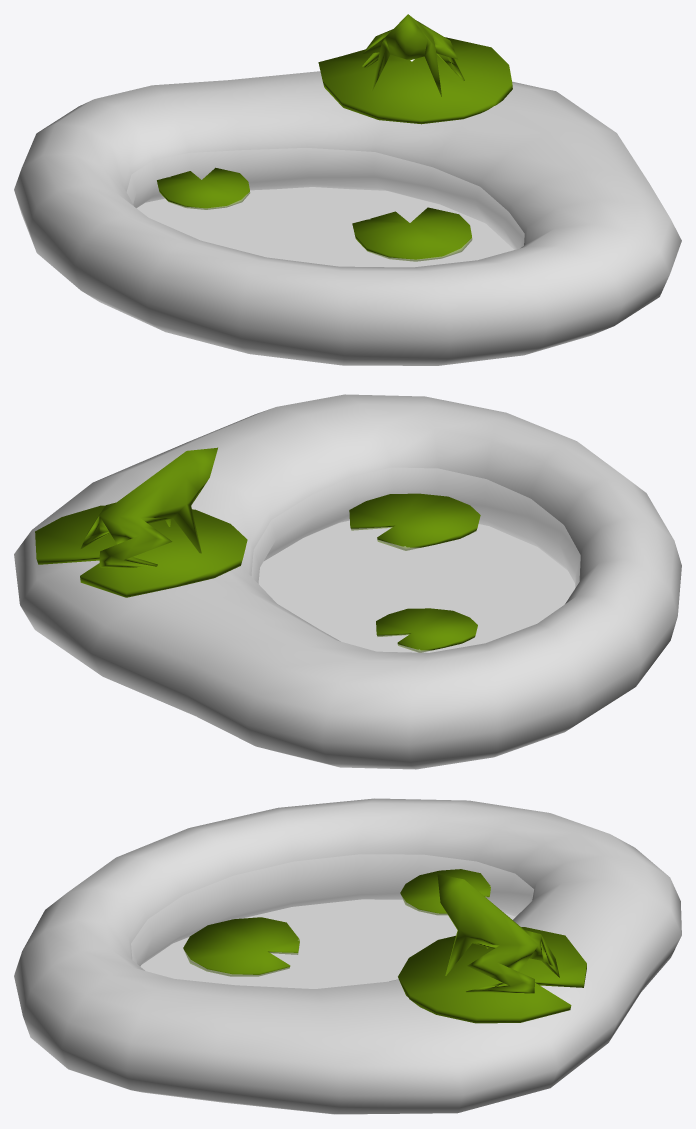
File: frogPond.glb
3 views of the same model, one above another, from view 1: azimuth 30°, elevation 25°; view 2: azimuth 150°, elevation 25°; view 3: azimuth 270°, elevation 25° (orthographic). The views are drawn at different scales.
Parts seen in each view (by area): view 1: Circle.001, nenufar, nenufar.002, rana60.001, nenufar.001; view 2: Circle.001, nenufar, rana60.001, nenufar.002, nenufar.001; view 3: Circle.001, nenufar, rana60.001, nenufar.002, nenufar.001.
Boxes of the visible parts, x1,y1,x2,y2 form: Circle.001: [14, 71, 681, 365]; nenufar: [318, 37, 512, 124]; nenufar.002: [352, 207, 472, 261]; rana60.001: [362, 14, 464, 96]; nenufar.001: [157, 167, 249, 209]; Circle.001: [14, 394, 681, 769]; nenufar: [35, 505, 247, 597]; rana60.001: [80, 447, 217, 568]; nenufar.002: [349, 493, 480, 550]; nenufar.001: [376, 608, 477, 652]; Circle.001: [14, 798, 681, 1114]; nenufar: [398, 927, 586, 1023]; rana60.001: [437, 874, 559, 993]; nenufar.002: [183, 917, 299, 976]; nenufar.001: [400, 869, 490, 915].
Bounding box in the file's own units: 3.79 × 1.2 × 4.
